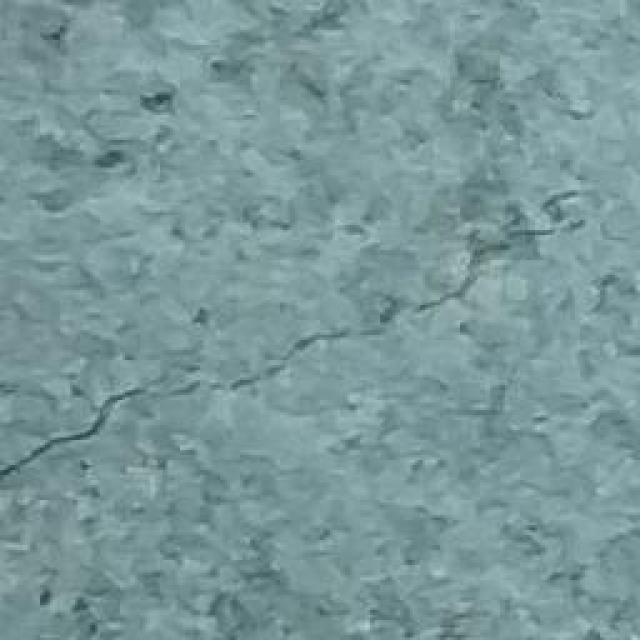Diagonal: (11, 168, 591, 474)
